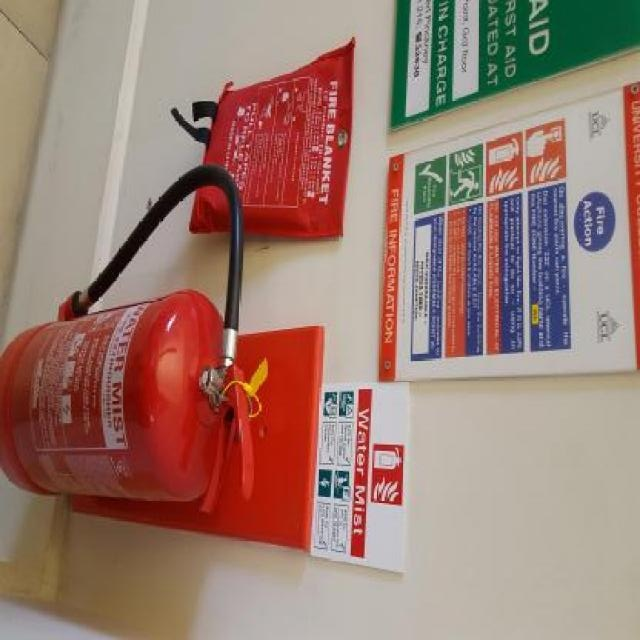fire extinguisher: (2, 166, 270, 522)
